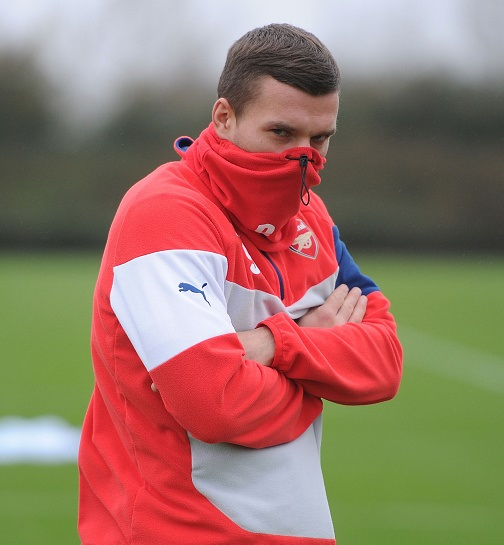face_mask: (233, 79, 335, 204)
